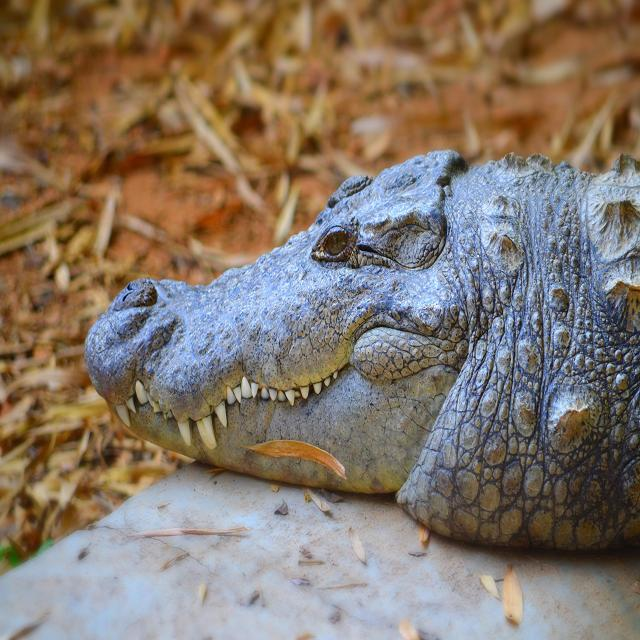crocodile: (86, 152, 640, 545)
